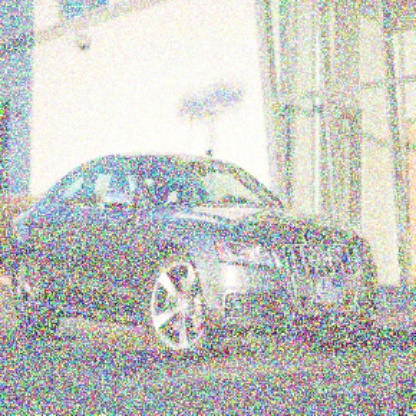Vehicle: (12, 155, 380, 358)
